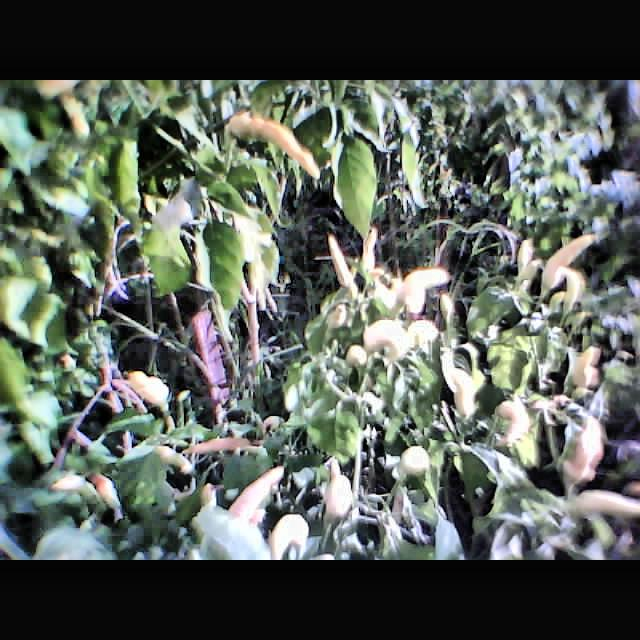Cabai: (229, 98, 325, 184)
